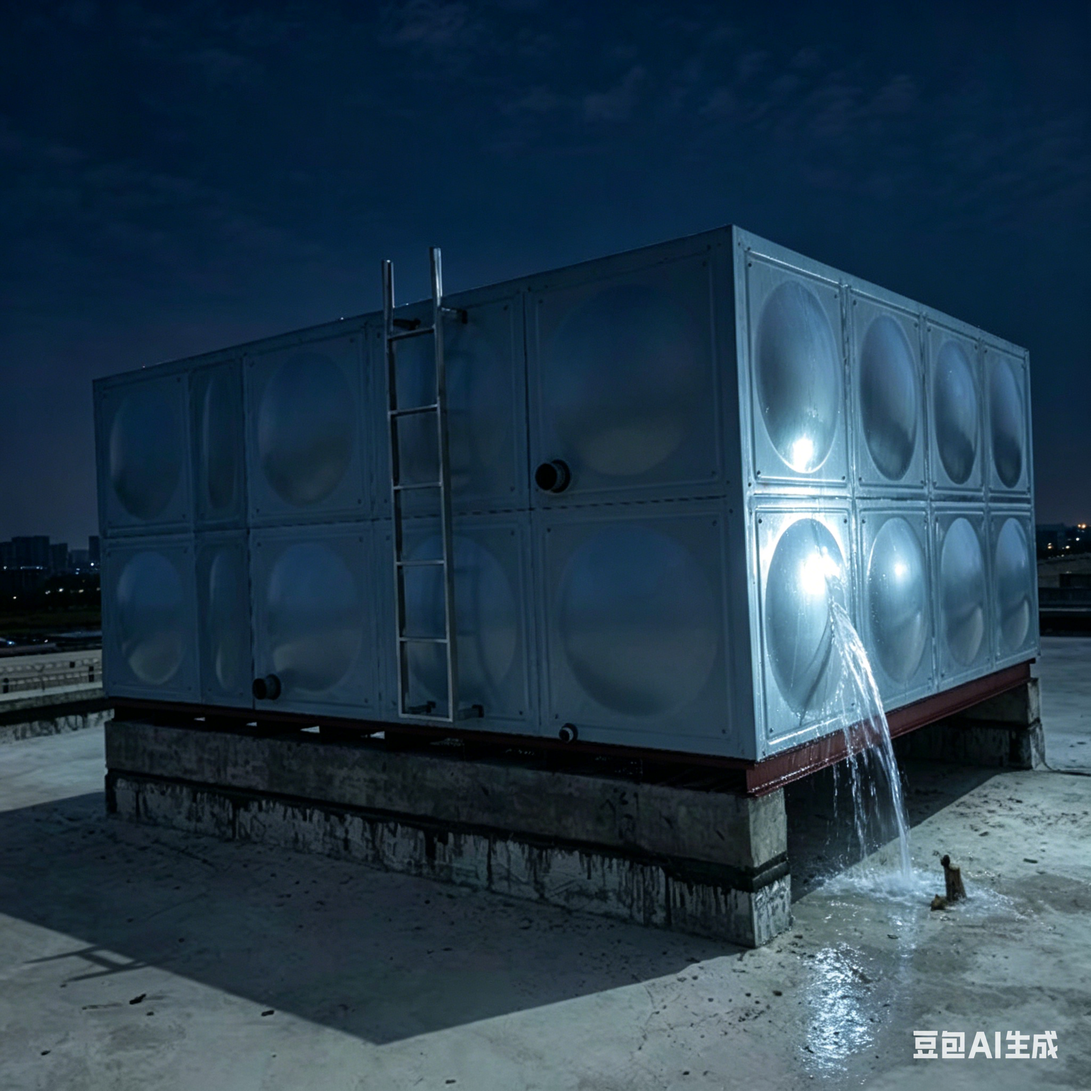Leakage: (804, 568, 963, 913)
